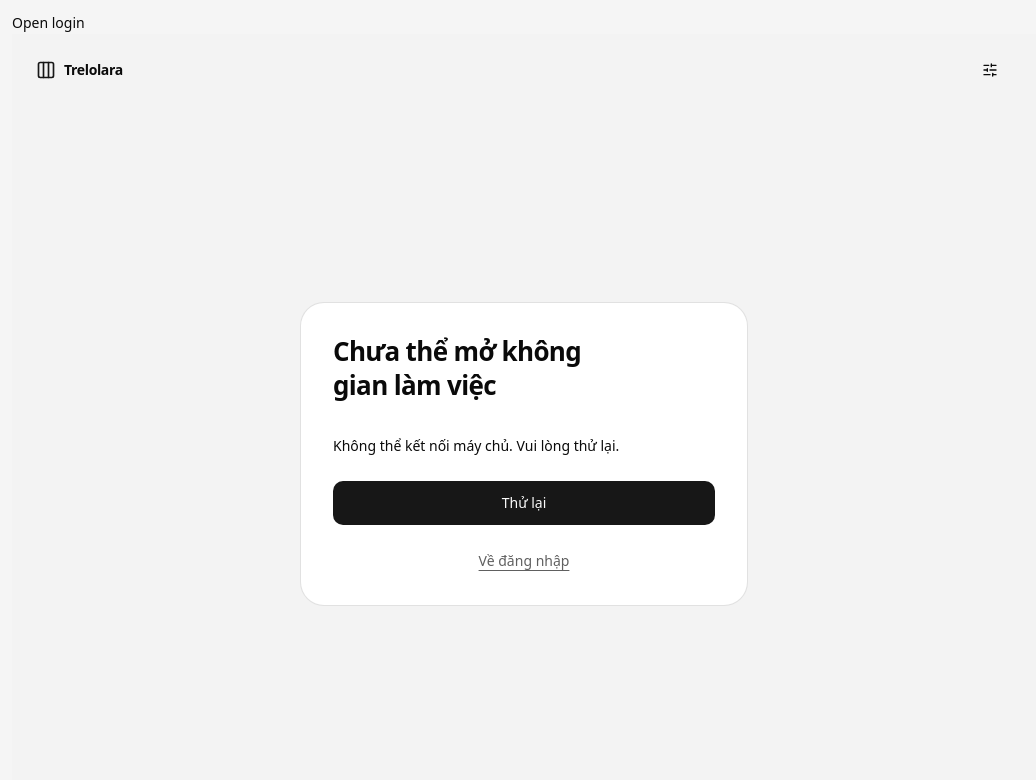
Test case: keeps a network failure on the private gate and recovers with Retry
The image size is (1036, 780).
Click the button "Thử lại" at point(524, 502), box [333,480,715,524]
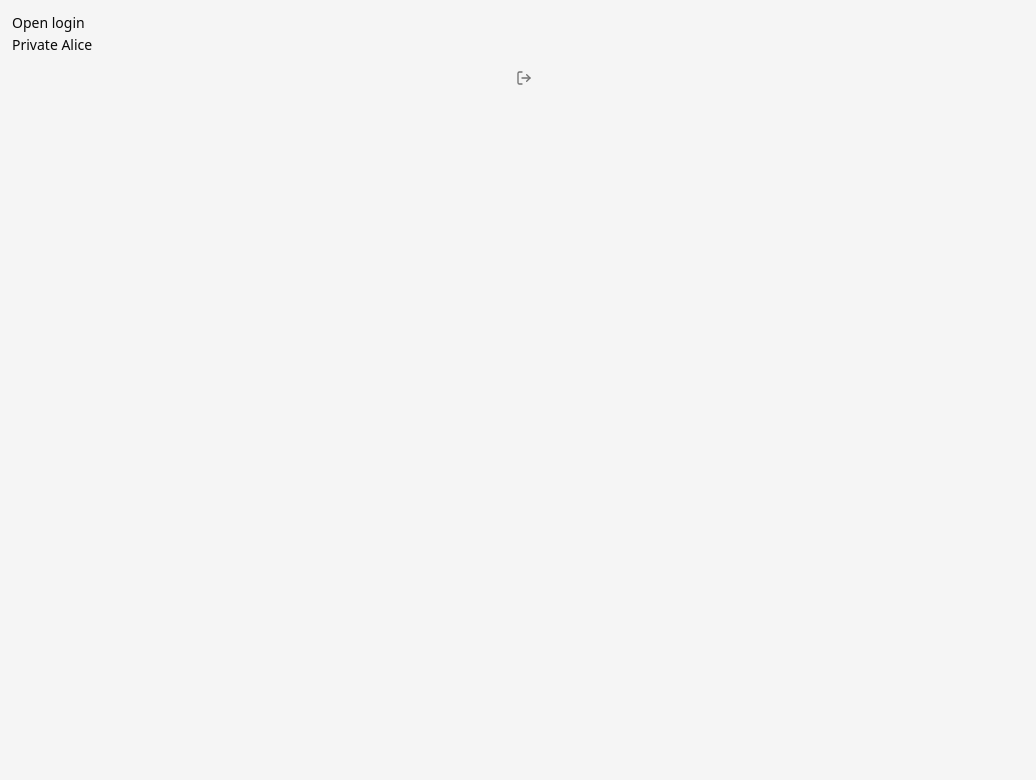
Expected: the heading "Private Alice" is shown, [12,35,92,54]
